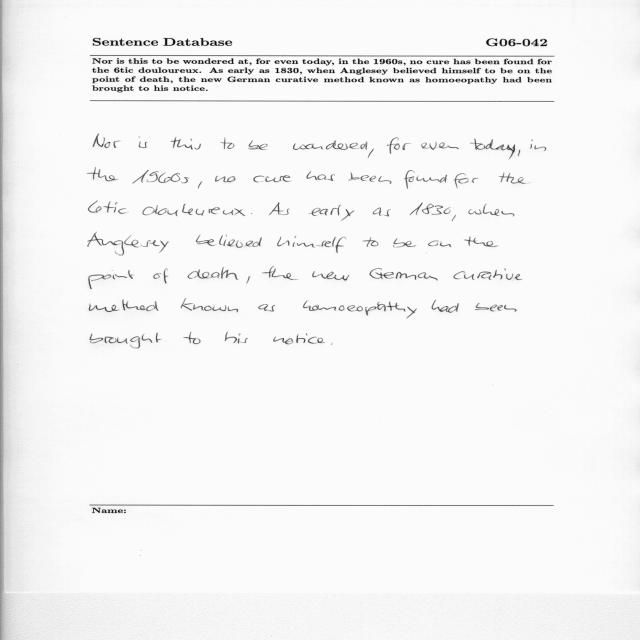word: (303, 301, 417, 318), (88, 232, 169, 255), (143, 204, 245, 216), (278, 236, 346, 253), (90, 333, 161, 348), (196, 234, 262, 248), (470, 139, 515, 159), (370, 268, 438, 281), (89, 300, 159, 312), (89, 270, 133, 289), (404, 170, 447, 189), (132, 170, 189, 184), (454, 269, 523, 280), (181, 299, 238, 312), (293, 140, 367, 150), (309, 205, 355, 221), (188, 267, 239, 280), (469, 204, 515, 217), (273, 334, 325, 345), (349, 172, 392, 184), (262, 266, 298, 280), (89, 201, 127, 214), (410, 203, 451, 215), (88, 168, 119, 182), (93, 134, 121, 148), (171, 137, 201, 150), (475, 303, 517, 312), (454, 173, 479, 188), (464, 236, 497, 247), (432, 300, 459, 313), (312, 272, 350, 281), (421, 142, 459, 150), (499, 173, 526, 184), (306, 171, 335, 181), (225, 332, 248, 344), (269, 202, 290, 215), (253, 176, 291, 183), (154, 269, 169, 284), (387, 137, 400, 154), (183, 332, 201, 344), (393, 239, 416, 248), (248, 140, 268, 150), (530, 139, 546, 151), (221, 138, 235, 150), (428, 240, 452, 247), (373, 208, 391, 217), (364, 237, 379, 247), (258, 304, 275, 312), (215, 176, 236, 182), (139, 142, 148, 148), (368, 149, 374, 158), (403, 143, 410, 150), (198, 181, 203, 189), (452, 215, 456, 221), (247, 276, 250, 284), (518, 150, 520, 156), (251, 213, 252, 214), (331, 344, 332, 345)
